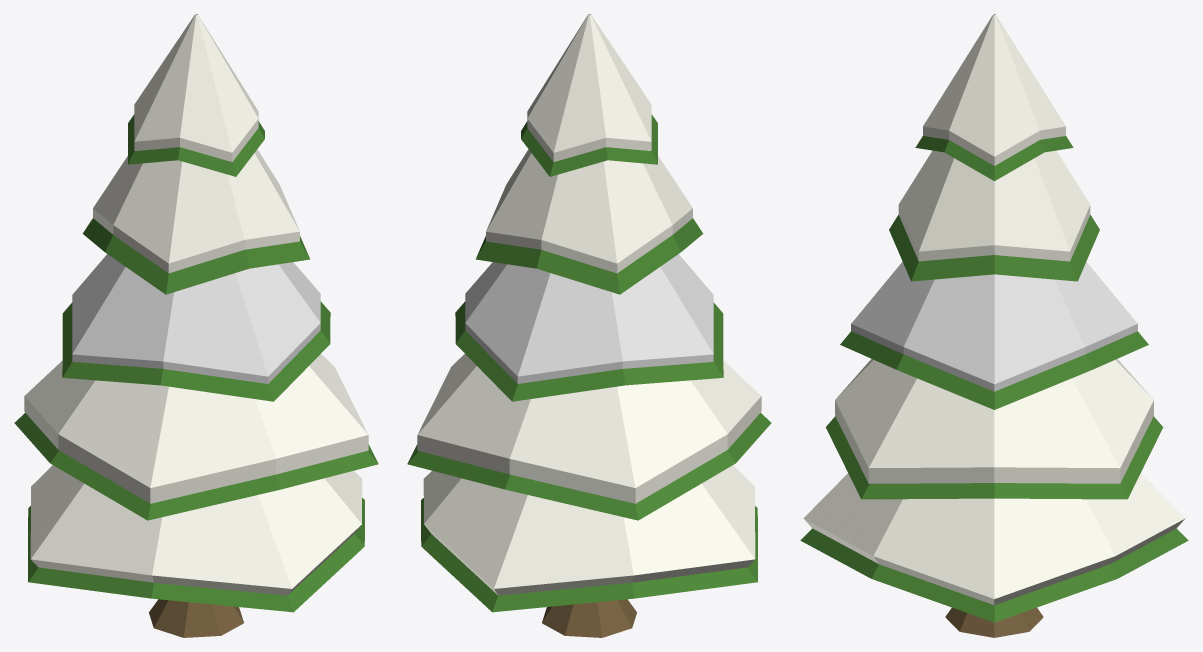
File: village-pinetree.fbx
The picture shows the model from 3 angles, left to right: view 1: azimuth 30°, elevation 25°; view 2: azimuth 150°, elevation 25°; view 3: azimuth 270°, elevation 25°; orthographic projection.
Visible parts, largest first — view 1: Cylinder.002; view 2: Cylinder.002; view 3: Cylinder.002.
Part boxes in pixels (x1,y1,x2,y2): Cylinder.002: (14, 14, 378, 637); Cylinder.002: (407, 14, 771, 637); Cylinder.002: (800, 14, 1188, 637).
Bounding box in the file's own units: 502 × 860 × 502.
